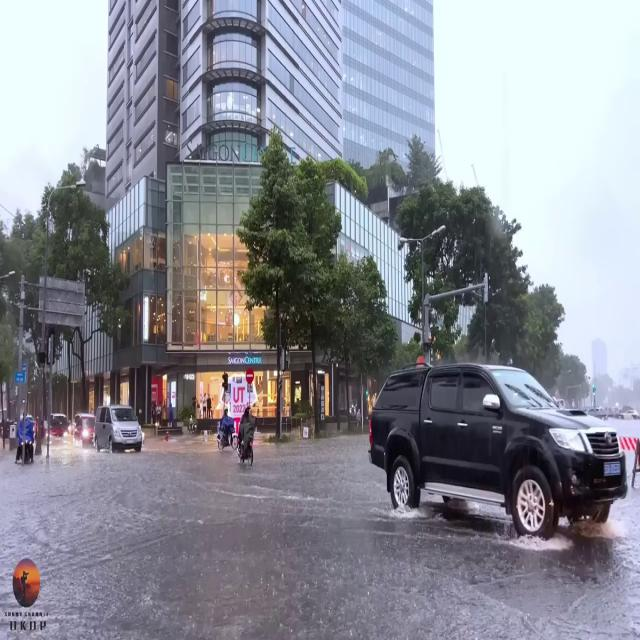bien_xanh: (604, 458, 622, 474)
